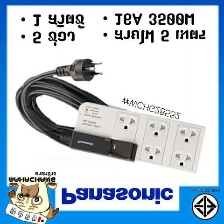three_eye_plug: (68, 99, 208, 178)
